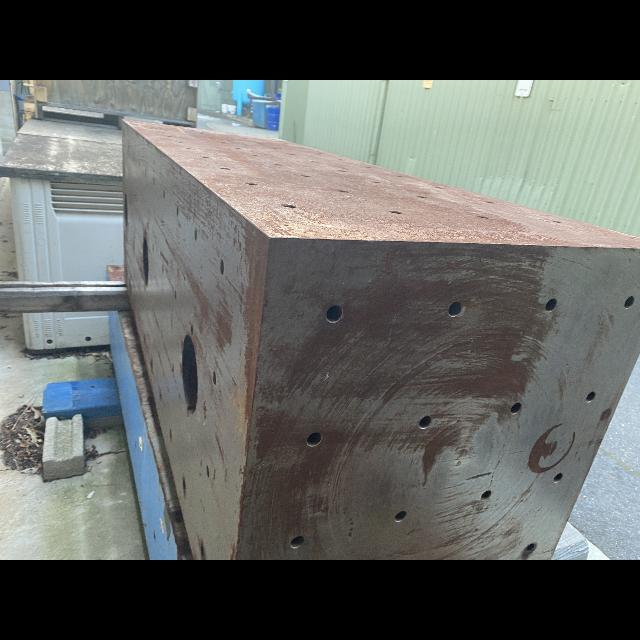Ferrous Metal: (120, 116, 640, 560), (279, 80, 640, 241), (106, 264, 124, 281)
